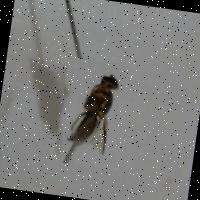Oriental-fruit-fly: (52, 56, 132, 170)
